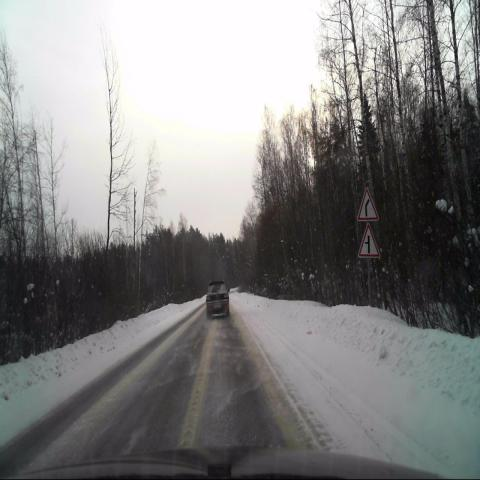1_11_1: (358, 189, 378, 221)
